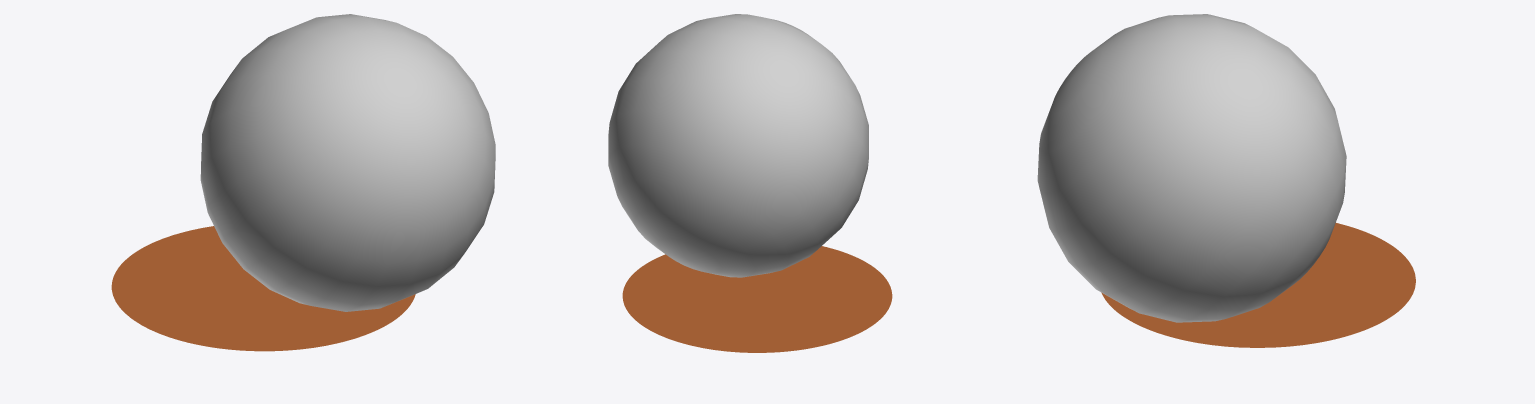
The model's file is 宝宝巴士-主框架-推送地图-游园会-球4.FBX.
3 views of the same model, side by side, from view 1: azimuth 30°, elevation 25°; view 2: azimuth 150°, elevation 25°; view 3: azimuth 270°, elevation 25° (orthographic). The views are drawn at different scales.
Parts seen in each view (by area): view 1: 宝宝巴士-主框架-推送地图-游园会-球4; view 2: 宝宝巴士-主框架-推送地图-游园会-球4; view 3: 宝宝巴士-主框架-推送地图-游园会-球4.
Boxes of the visible parts, x1,y1,x2,y2 form: 宝宝巴士-主框架-推送地图-游园会-球4: [111, 14, 495, 351]; 宝宝巴士-主框架-推送地图-游园会-球4: [608, 14, 892, 352]; 宝宝巴士-主框架-推送地图-游园会-球4: [1037, 14, 1415, 347].
Size of the model in its own units: 124 by 74.15 by 124.
